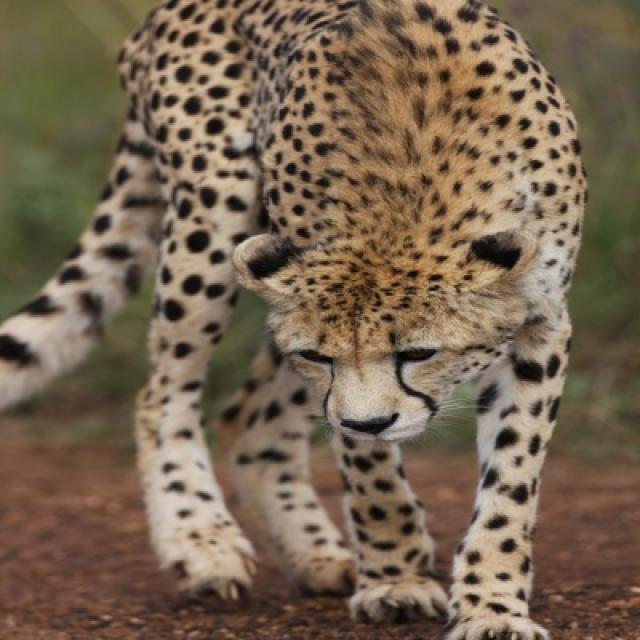Cheetah: (0, 0, 589, 638)
